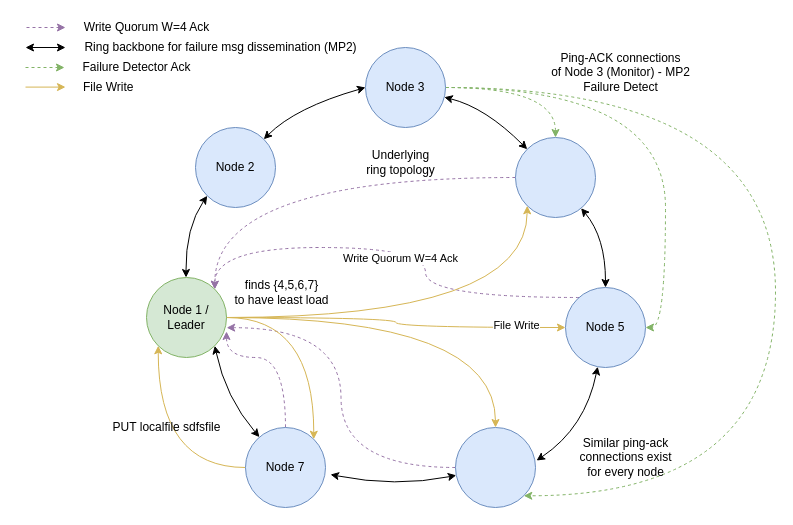
Some shapes in this 793 by 525 pixel diagram are drawn without their labels. The shapes that lost their labels are listed below. From the top down, each one's centre as x and y in pixels, then its label:
At point (555, 177): "Node 4".
At point (495, 467): "Node 6".
